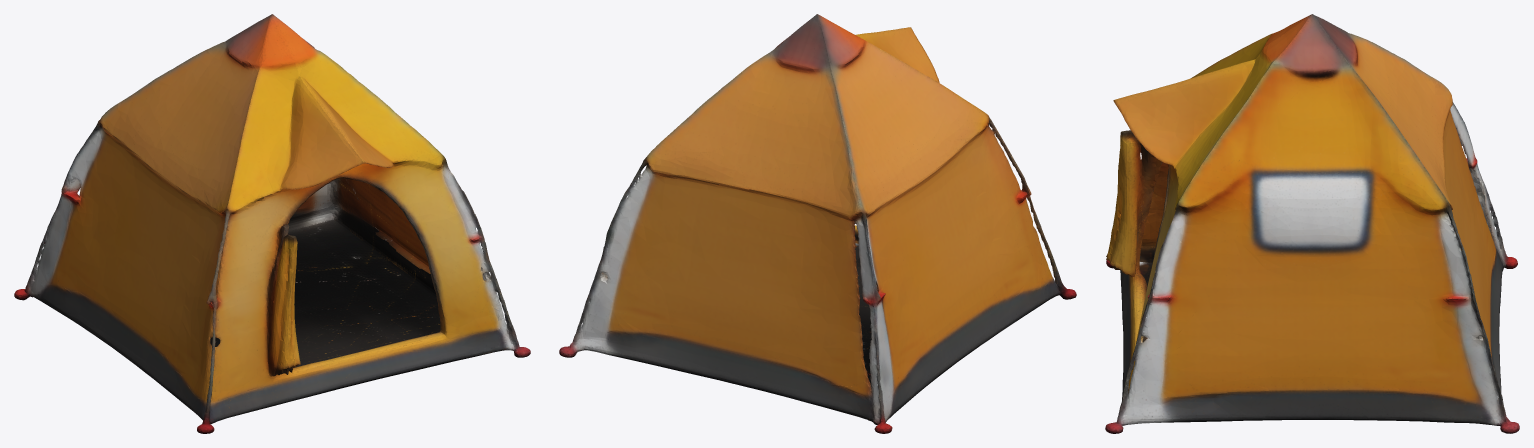
Rendered from camping tent.glb.
3 renders of one model, left to right at view 1: azimuth 30°, elevation 25°; view 2: azimuth 150°, elevation 25°; view 3: azimuth 270°, elevation 25°, orthographic. The views are drawn at different scales.
Visible parts, largest first — view 1: world; view 2: world; view 3: world.
Boxes of the visible parts, x1,y1,x2,y2 form: world: (14,14,530,433); world: (559,14,1076,433); world: (1105,14,1519,433).
Bounding box in the file's own units: 0.6342 × 0.569 × 0.6386.
1 material, 1 textured.
